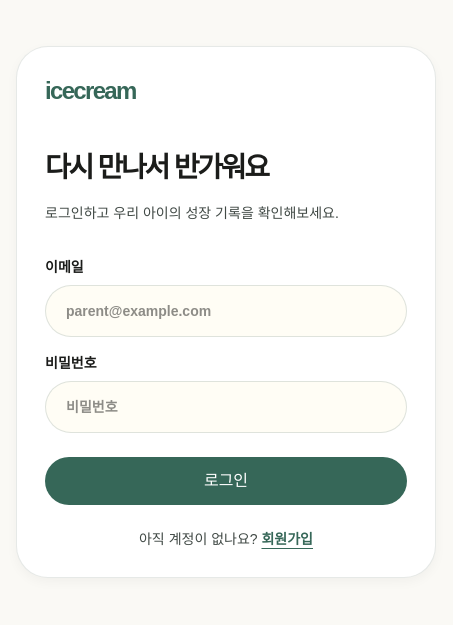
Test: AuthPage › 필수 입력이 없으면 오류를 알리고 제출하지 않는다
This screenshot has width=453, height=625.
Step 1. Click the button "로그인" → click(226, 481), box [45,457,407,505]
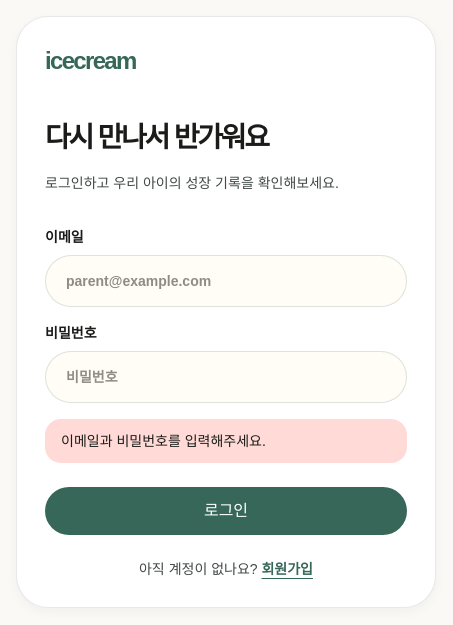
Expected: the message reads "이메일과 비밀번호를 입력해주세요.", [61,433,266,449]
